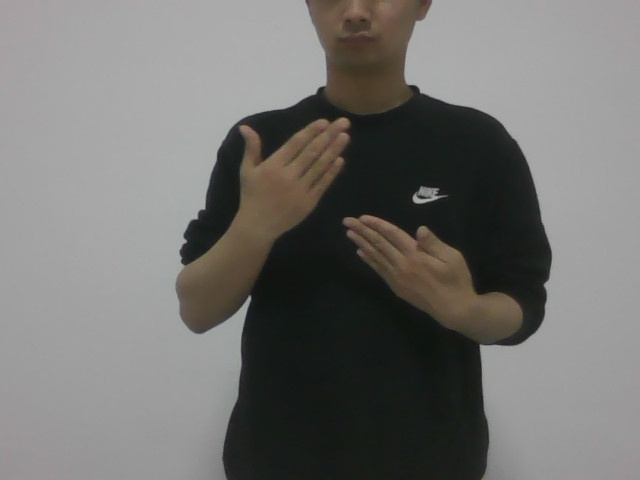tea: (201, 109, 491, 340)
